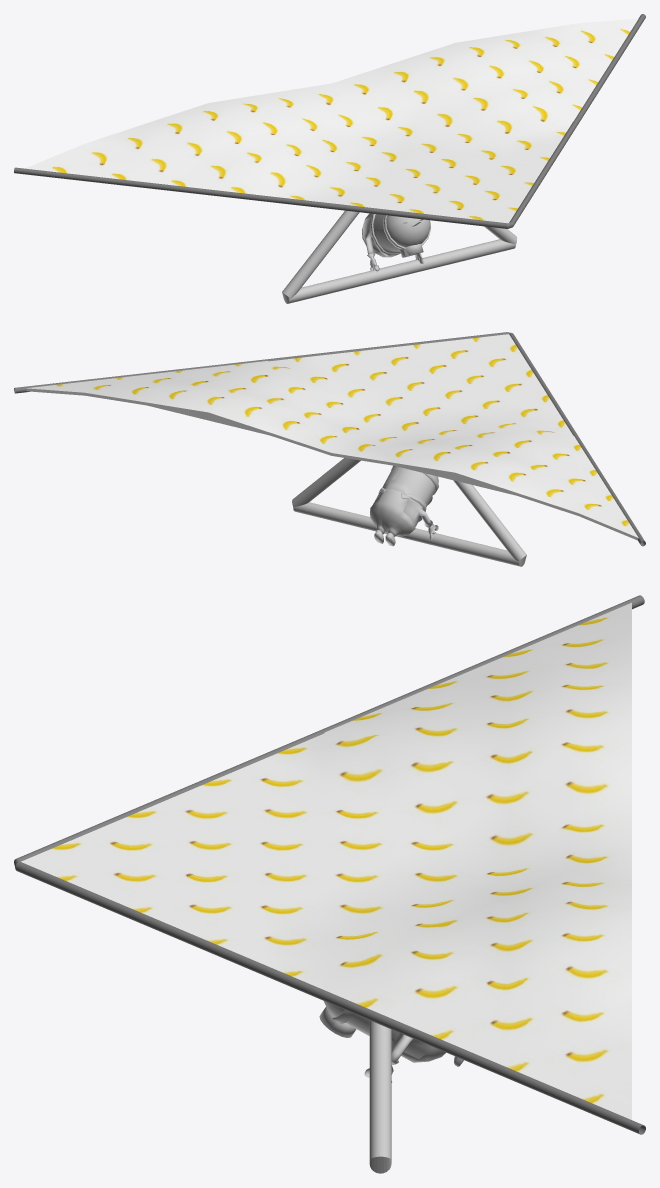
Rendered from minion.obj.
3 views of the same model, one above another, from view 1: azimuth 30°, elevation 25°; view 2: azimuth 150°, elevation 25°; view 3: azimuth 270°, elevation 25° (orthographic). The views are drawn at different scales.
Visible parts, largest first — view 1: Sujetador1 Ala_delta, Minion minion:MeshpolySurface18; view 2: Sujetador1 Ala_delta, Minion minion:MeshpolySurface18; view 3: Sujetador1 Ala_delta, Minion minion:MeshpolySurface18.
Boxes of the visible parts, x1,y1,x2,y2 form: Sujetador1 Ala_delta: [14, 14, 645, 303]; Minion minion:MeshpolySurface18: [362, 213, 430, 272]; Sujetador1 Ala_delta: [14, 332, 645, 566]; Minion minion:MeshpolySurface18: [370, 466, 438, 546]; Sujetador1 Ala_delta: [14, 595, 645, 1173]; Minion minion:MeshpolySurface18: [324, 1001, 463, 1082].
Bounding box in the file's own units: 85.74 × 19.24 × 42.96.
